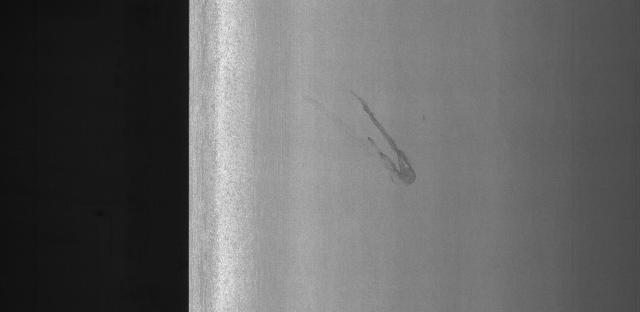water_spot: (330, 86, 436, 196)
